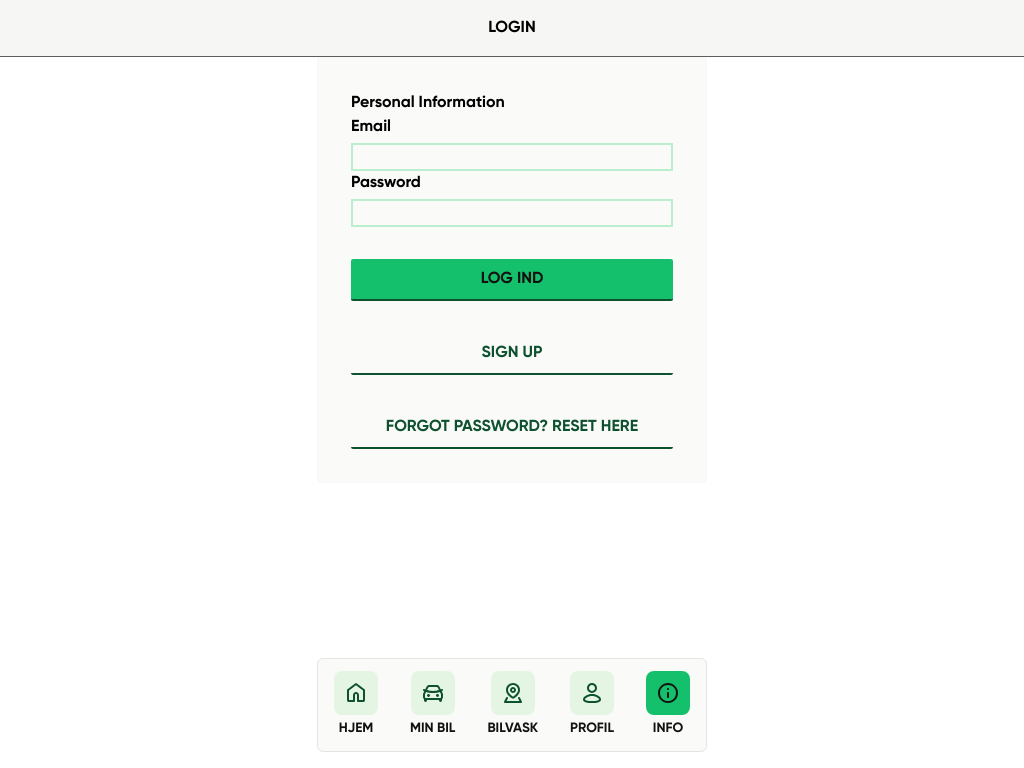
Test: Signup › should show the signup form when Sign up is clicked
The image size is (1024, 768).
Click the button with id "signup" at (512, 354), box [351,333,673,375]
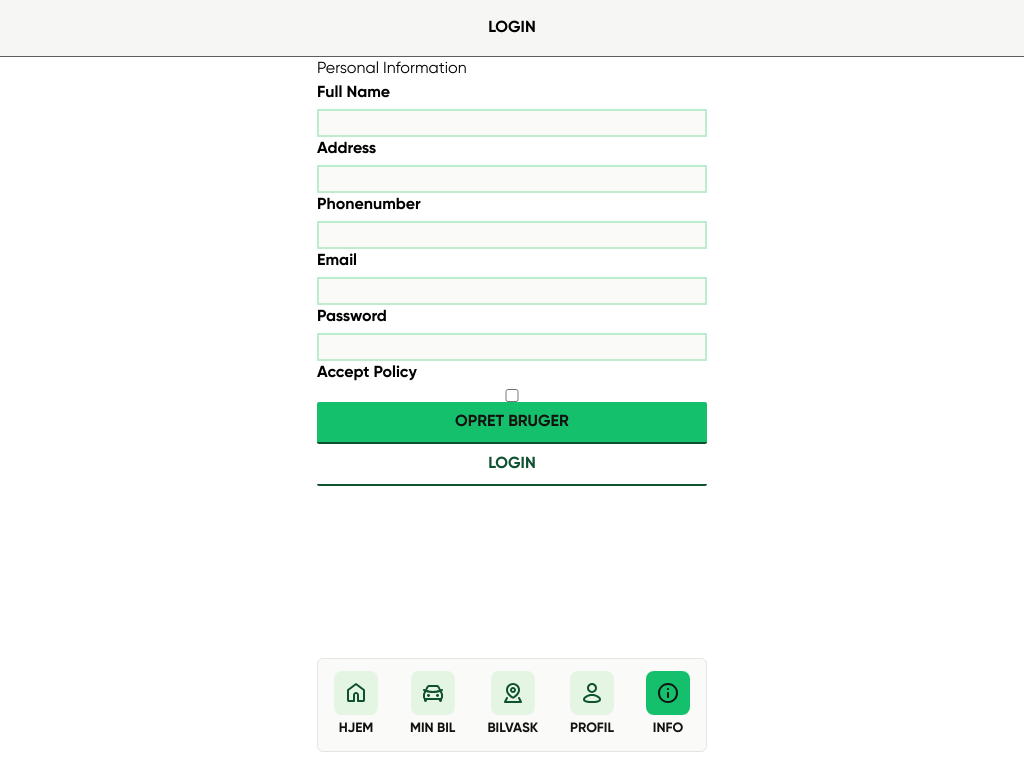
Now the form with id "signupform" is shown, box [317,57,707,486]
